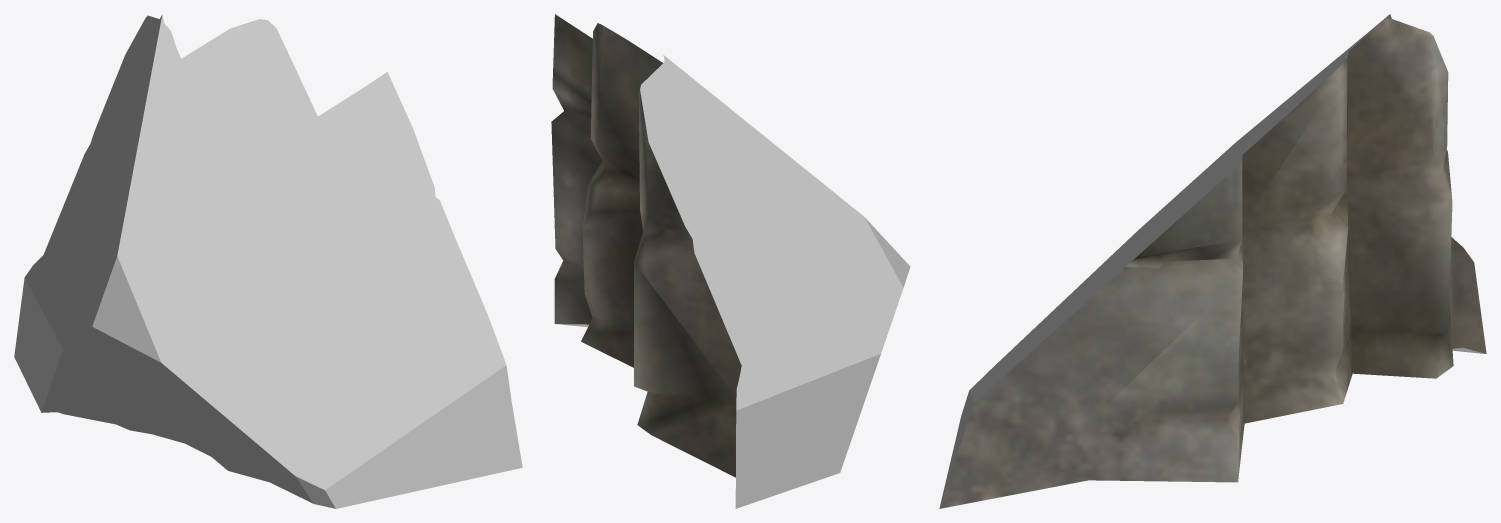
The model's file is ColumnDamage08_16.fbx.
The picture shows the model from 3 angles, left to right: view 1: azimuth 30°, elevation 25°; view 2: azimuth 150°, elevation 25°; view 3: azimuth 270°, elevation 25°; orthographic projection. The views are drawn at different scales.
Parts seen in each view (by area): view 1: ColumnDamage08_DM.016; view 2: ColumnDamage08_DM.016; view 3: ColumnDamage08_DM.016.
Boxes of the visible parts, <box> form: ColumnDamage08_DM.016: <box>14,14,522,508</box>; ColumnDamage08_DM.016: <box>551,14,910,508</box>; ColumnDamage08_DM.016: <box>939,14,1486,508</box>.
Bounding box in the file's own units: 128 × 139 × 168.
